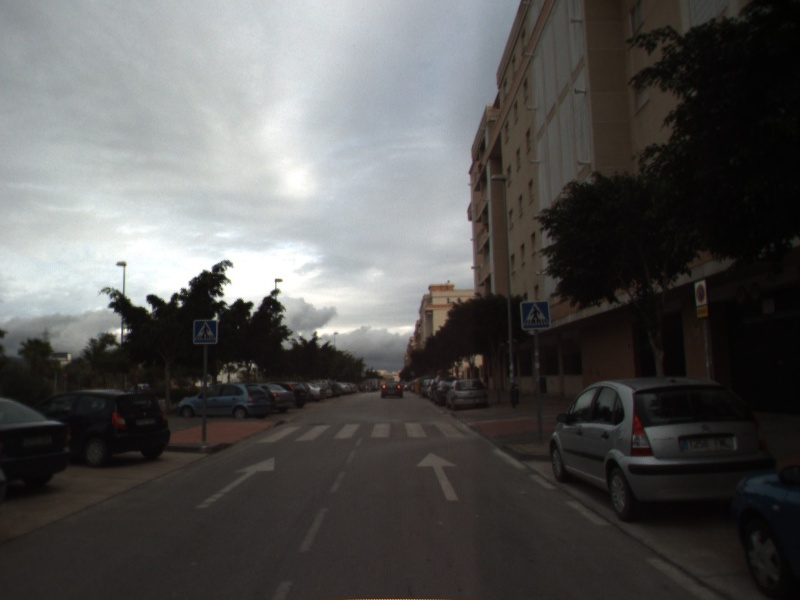STRAIGHT: (194, 455, 277, 510), (414, 450, 461, 502)
